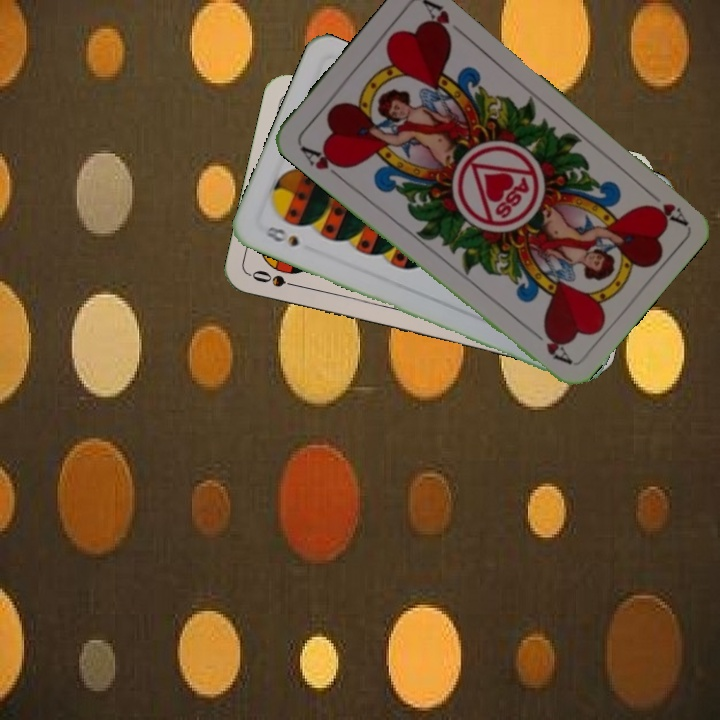HA: (296, 141, 350, 182), (639, 183, 689, 227)
S8: (260, 222, 301, 249)
SO: (247, 266, 306, 291)
